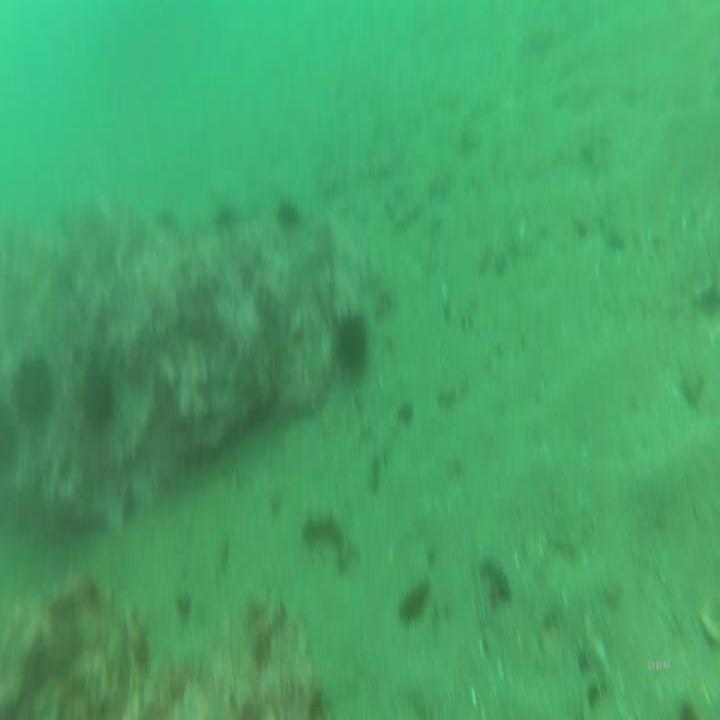echinus: (73, 346, 129, 436), (325, 292, 375, 386), (6, 345, 57, 421)
